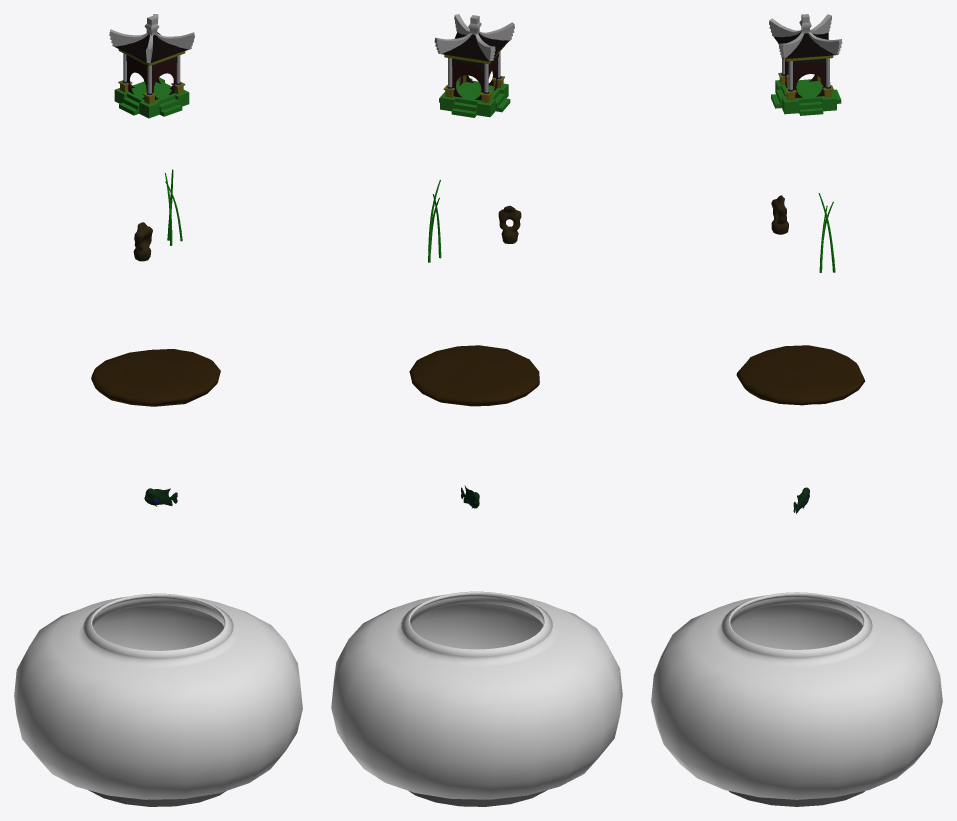
The model's file is FishyTexturing.obj.
3 renders of one model, left to right at view 1: azimuth 30°, elevation 25°; view 2: azimuth 150°, elevation 25°; view 3: azimuth 270°, elevation 25°, orthographic.
Visible parts, largest first — view 1: Bowl, FishCastle:Foundation1 FishCastle:Landscape, FishCastle:Temple FishCastle:Stairs, FishCastle:pasted__pasted__pasted__pCube11 FishCastle:Top_Suppor, FishCastle:Temple FishCastle:Roof, FishCastle:Temple FishCastle:polySurface1 FishCastle:Walls FishC, FishCastle:Landscape FishCastle:Rock1; view 2: Bowl, FishCastle:Foundation1 FishCastle:Landscape, FishCastle:Temple FishCastle:Stairs, FishCastle:pasted__pasted__pasted__pCube11 FishCastle:Top_Suppor, FishCastle:Temple FishCastle:polySurface1 FishCastle:Walls FishC, FishCastle:Temple FishCastle:Roof, FishCastle:Landscape FishCastle:Rock1; view 3: Bowl, FishCastle:Foundation1 FishCastle:Landscape, FishCastle:Temple FishCastle:Stairs, FishCastle:pasted__pasted__pasted__pCube11 FishCastle:Top_Suppor, FishCastle:Temple FishCastle:Roof, FishCastle:Temple FishCastle:polySurface1 FishCastle:Walls FishC, FishCastle:Landscape FishCastle:Rock1.
Part boxes in pixels (x1,y1,x2,y2): Bowl: (14,593,302,806); FishCastle:Foundation1 FishCastle:Landscape: (91,349,220,406); FishCastle:Temple FishCastle:Stairs: (114,77,189,118); FishCastle:pasted__pasted__pasted__pCube11 FishCastle:Top_Suppor: (109,14,194,63); FishCastle:Temple FishCastle:Roof: (113,32,191,63); FishCastle:Temple FishCastle:polySurface1 FishCastle:Walls FishC: (127,59,176,99); FishCastle:Landscape FishCastle:Rock1: (133,222,152,261); Bowl: (331,591,622,806); FishCastle:Foundation1 FishCastle:Landscape: (409,345,539,406); FishCastle:Temple FishCastle:Stairs: (439,78,510,117); FishCastle:pasted__pasted__pasted__pCube11 FishCastle:Top_Suppor: (434,14,514,61); FishCastle:Temple FishCastle:polySurface1 FishCastle:Walls FishC: (452,56,497,100); FishCastle:Temple FishCastle:Roof: (438,32,510,61); FishCastle:Landscape FishCastle:Rock1: (498,205,521,243); Bowl: (651,592,942,806); FishCastle:Foundation1 FishCastle:Landscape: (736,345,865,405); FishCastle:Temple FishCastle:Stairs: (771,79,841,115); FishCastle:pasted__pasted__pasted__pCube11 FishCastle:Top_Suppor: (769,14,842,58); FishCastle:Temple FishCastle:Roof: (774,31,838,58); FishCastle:Temple FishCastle:polySurface1 FishCastle:Walls FishC: (785,59,825,98); FishCastle:Landscape FishCastle:Rock1: (771,195,788,234).
Size of the model in its own units: 33.68 by 96.24 by 33.68.
